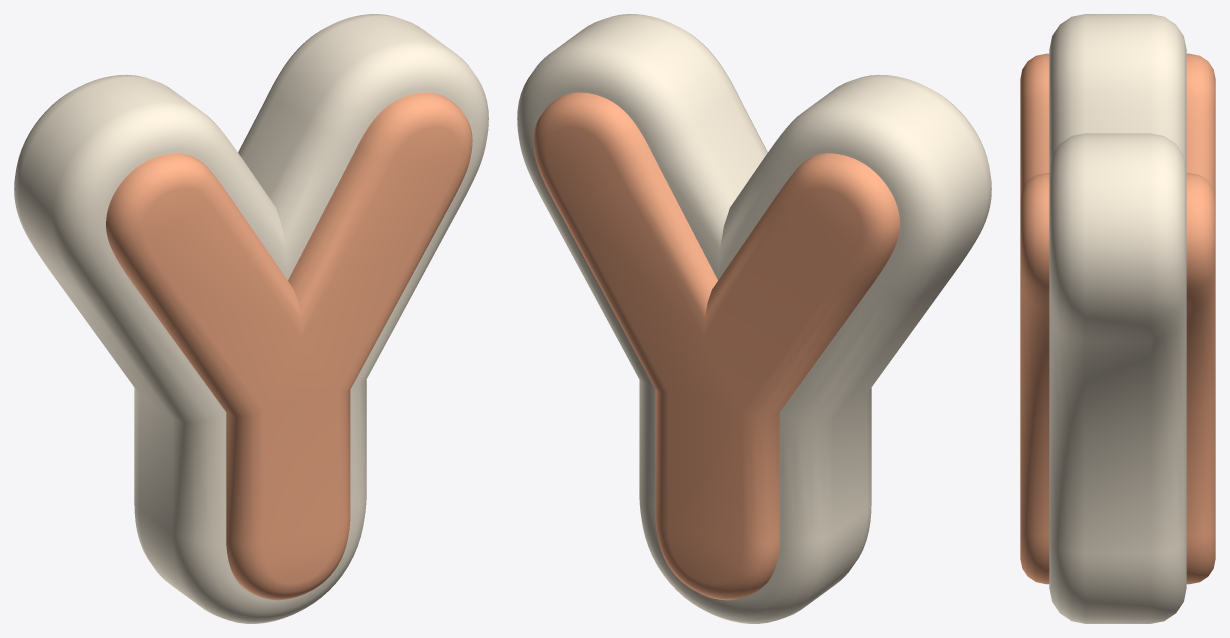
File: candy_letter_Y.glb
3 renders of one model, left to right at view 1: azimuth 30°, elevation 25°; view 2: azimuth 150°, elevation 25°; view 3: azimuth 270°, elevation 25°, orthographic. The views are drawn at different scales.
Visible parts, largest first — view 1: candy_letter_Y; view 2: candy_letter_Y; view 3: candy_letter_Y.
Part boxes in pixels (box(x1,y1,x2,y2)): candy_letter_Y: box(14, 14, 488, 623); candy_letter_Y: box(517, 14, 991, 623); candy_letter_Y: box(1020, 14, 1215, 623).
Bounding box in the file's own units: 0.6649 × 0.8 × 0.2667.
